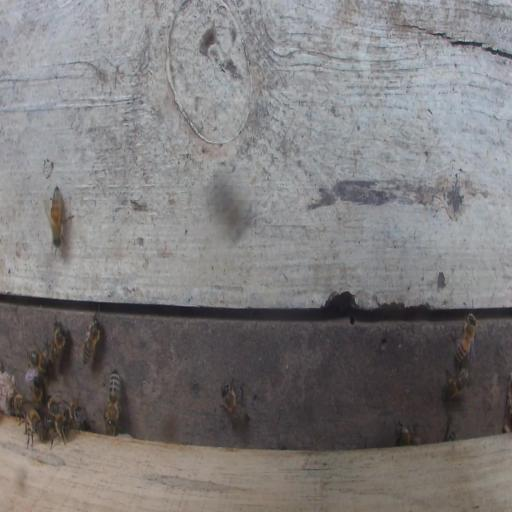nonpollenbee: (45, 185, 71, 248), (454, 310, 477, 365), (81, 313, 102, 366), (221, 384, 245, 429), (442, 366, 470, 401), (23, 407, 45, 449), (45, 413, 69, 449), (51, 320, 66, 375), (50, 184, 63, 246), (107, 368, 120, 428), (27, 346, 51, 376), (395, 421, 421, 446), (32, 376, 45, 407), (11, 392, 24, 422), (66, 404, 84, 422), (47, 398, 59, 415)
